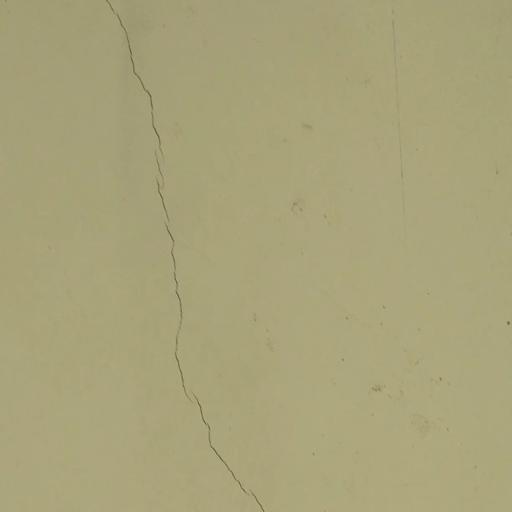minor_crack: (66, 0, 291, 512)
